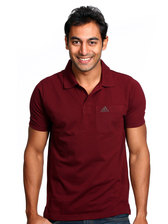clothoes: (27, 56, 151, 220)
